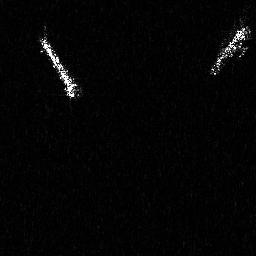ship: (37, 24, 85, 103), (209, 17, 253, 78)
